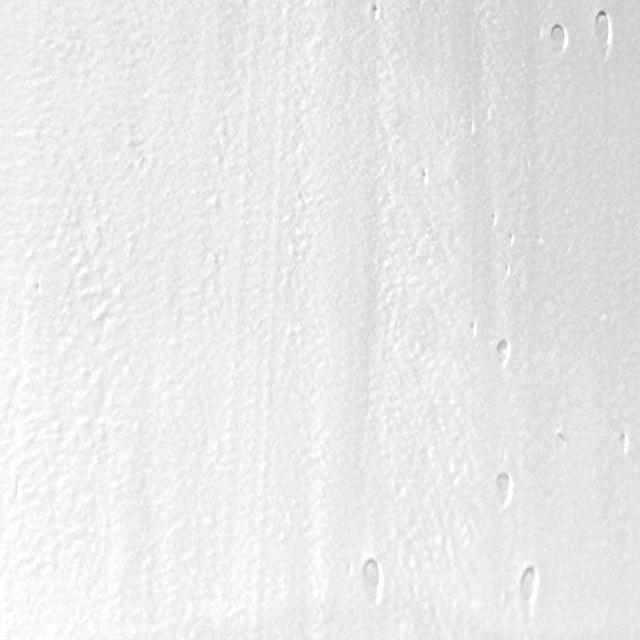pin holes: (356, 553, 386, 606), (516, 564, 545, 610), (592, 10, 617, 55), (547, 22, 571, 55), (490, 470, 514, 503), (491, 337, 512, 368), (615, 428, 633, 456), (365, 1, 385, 23), (416, 165, 434, 188), (555, 430, 569, 450), (504, 230, 518, 249), (467, 320, 480, 340), (488, 211, 500, 228)
